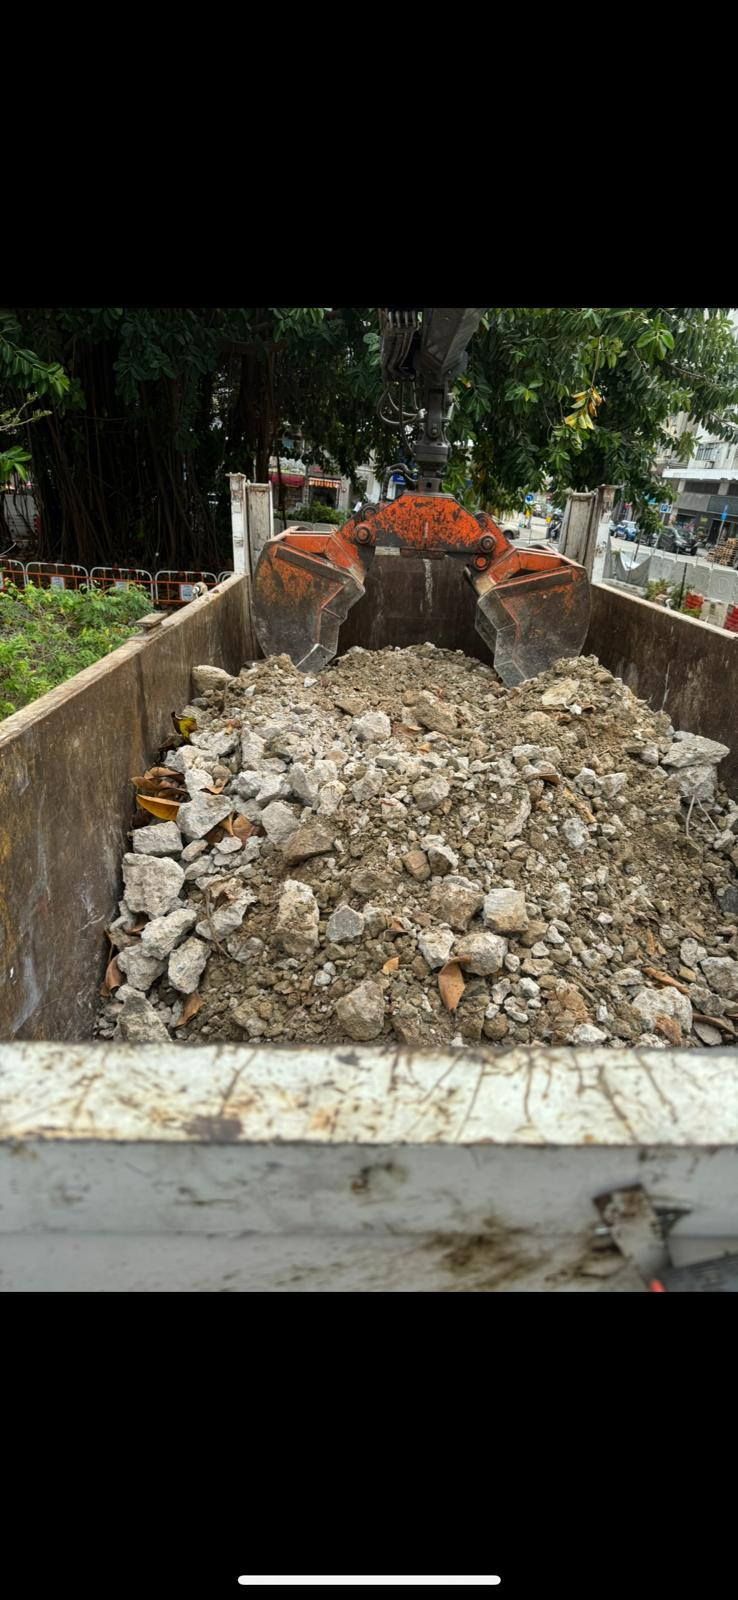dirt: (96, 639, 736, 1047)
